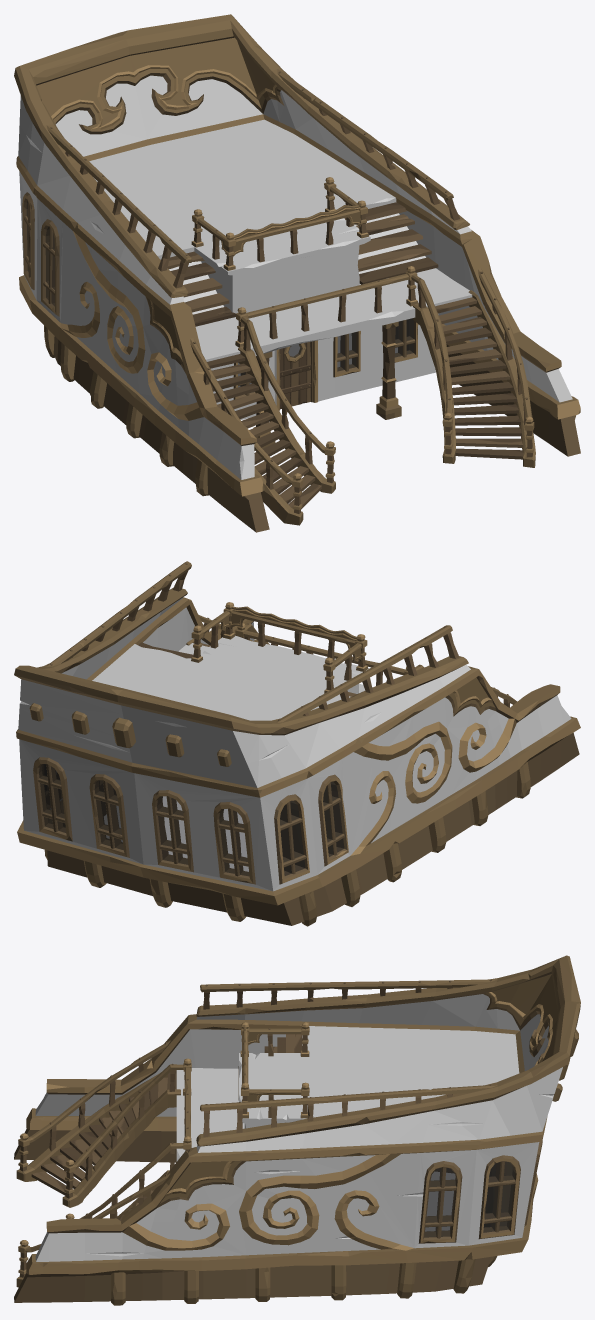
File: SM_Veh_Ship_L_Back_02.fbx
3 renders of one model, top to bottom at view 1: azimuth 30°, elevation 25°; view 2: azimuth 150°, elevation 25°; view 3: azimuth 270°, elevation 25°, orthographic. The views are drawn at different scales.
Visible parts, largest first — view 1: SM_Veh_Ship_L_Back_02, SM_Veh_Ship_L_Back_02_Door, SM_Veh_Ship_L_Back_02_Glass; view 2: SM_Veh_Ship_L_Back_02, SM_Veh_Ship_L_Back_02_Glass; view 3: SM_Veh_Ship_L_Back_02, SM_Veh_Ship_L_Back_02_Glass.
Part boxes in pixels (left/top/right/bottom): SM_Veh_Ship_L_Back_02: left=14, top=14, right=580, bottom=532; SM_Veh_Ship_L_Back_02_Door: left=280, top=341, right=311, bottom=409; SM_Veh_Ship_L_Back_02_Glass: left=26, top=201, right=413, bottom=392; SM_Veh_Ship_L_Back_02: left=14, top=561, right=580, bottom=926; SM_Veh_Ship_L_Back_02_Glass: left=39, top=764, right=344, bottom=876; SM_Veh_Ship_L_Back_02: left=14, top=955, right=580, bottom=1305; SM_Veh_Ship_L_Back_02_Glass: left=424, top=1161, right=515, bottom=1237.
Bounding box in the file's own units: 1070 × 748 × 1640.
